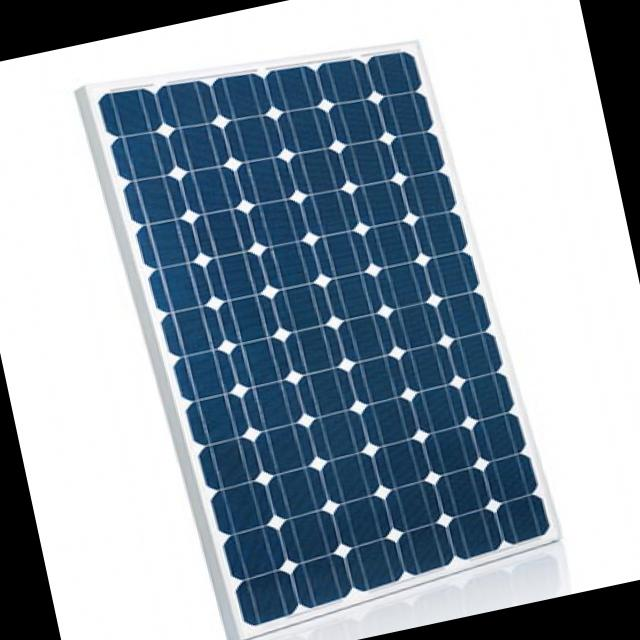no faulty: (100, 50, 550, 624)
